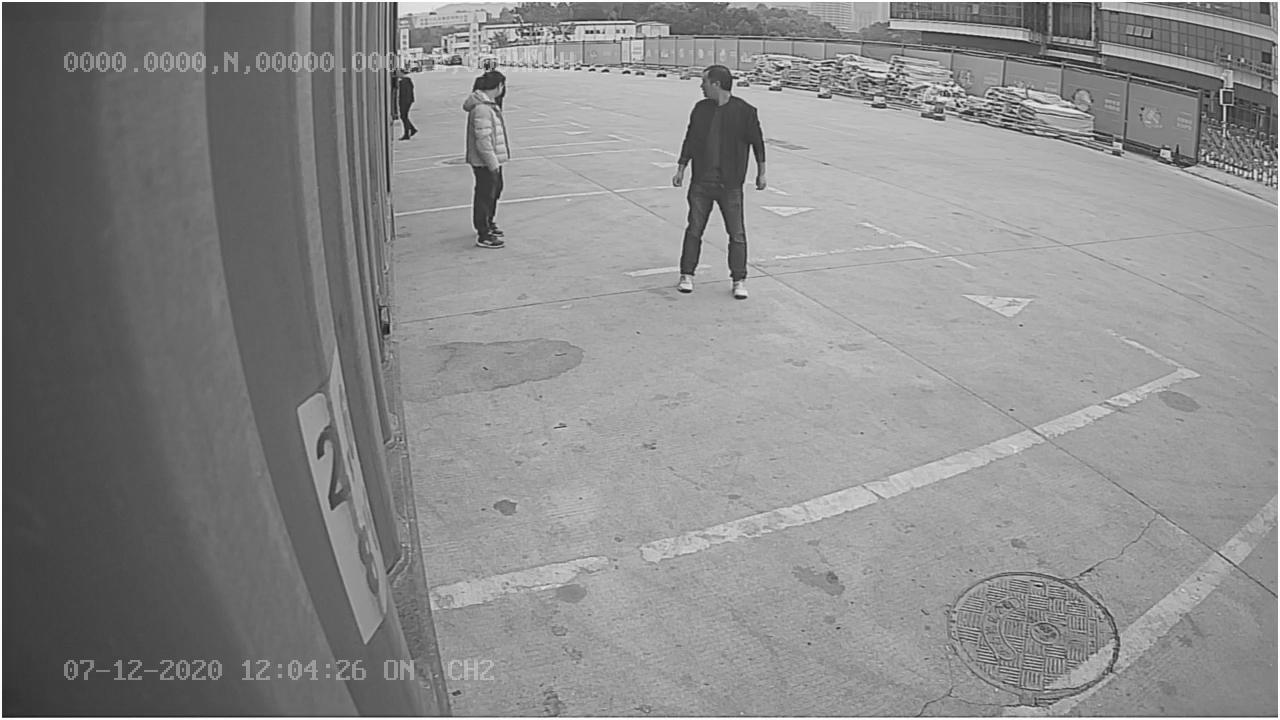person: (672, 62, 768, 300)
